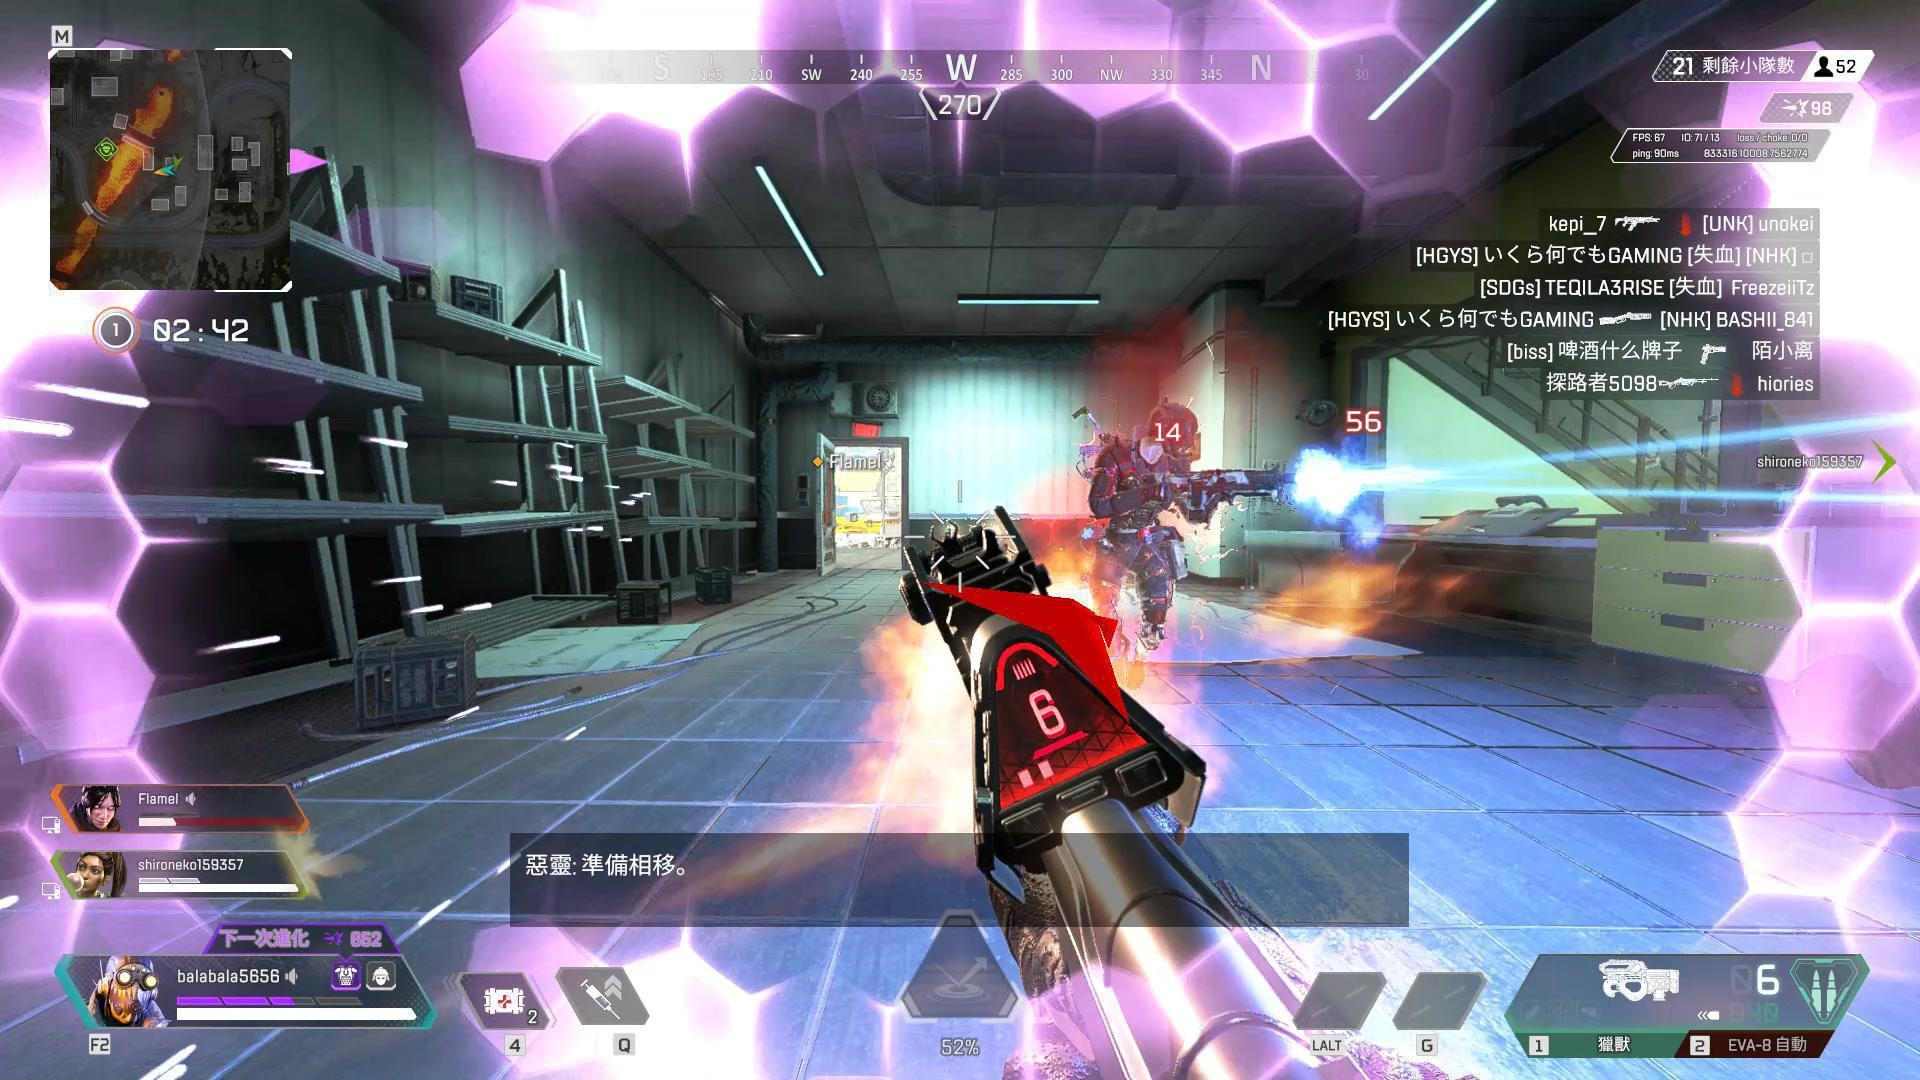avatar: (1079, 399, 1204, 654)
object: (1292, 447, 1359, 516)
